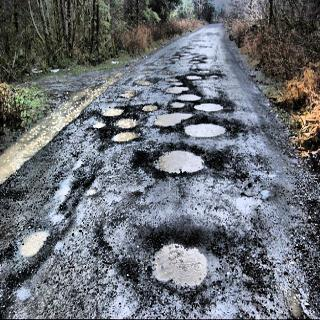pothole: (126, 64, 248, 190), (133, 208, 247, 297), (6, 206, 62, 295)
